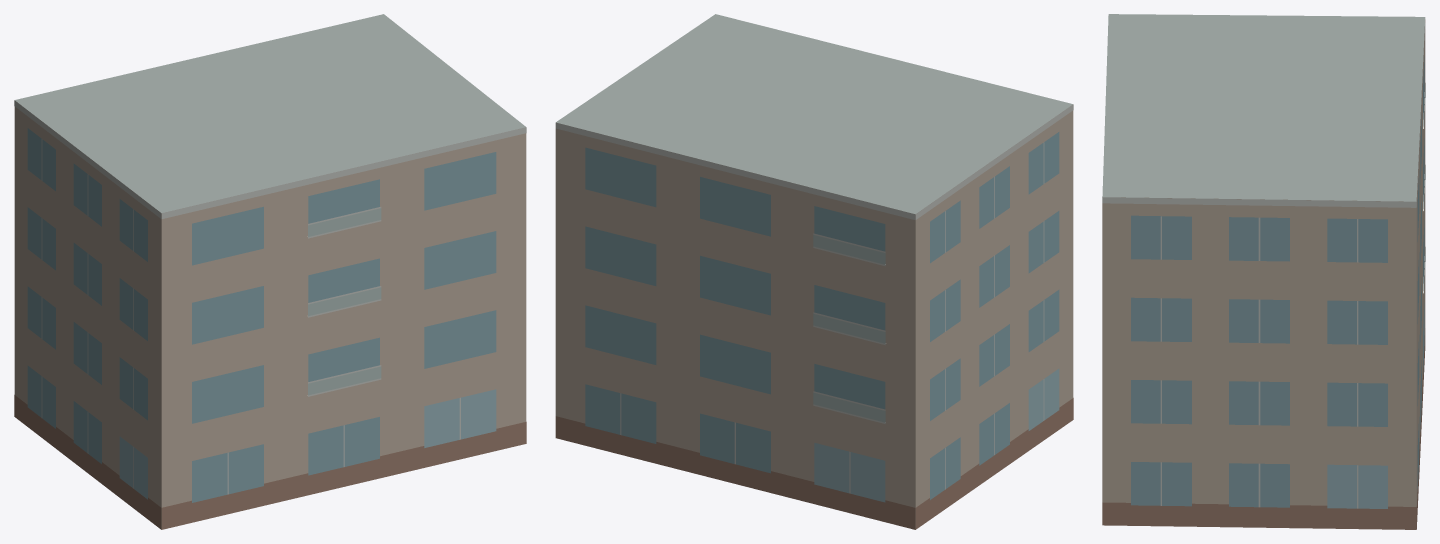
The model's file is survey-upis-32653419.glb.
The picture shows the model from 3 angles, left to right: view 1: azimuth 30°, elevation 25°; view 2: azimuth 150°, elevation 25°; view 3: azimuth 270°, elevation 25°; orthographic projection. The views are drawn at different scales.
Visible parts, largest first — view 1: survey-upis-32653419.tmp; view 2: survey-upis-32653419.tmp; view 3: survey-upis-32653419.tmp.
Part boxes in pixels (bbox=[...]): survey-upis-32653419.tmp: bbox=[14, 14, 526, 529]; survey-upis-32653419.tmp: bbox=[555, 14, 1073, 529]; survey-upis-32653419.tmp: bbox=[1102, 14, 1425, 529].
Size of the model in its own units: 15.7 by 12.8 by 11.43.
